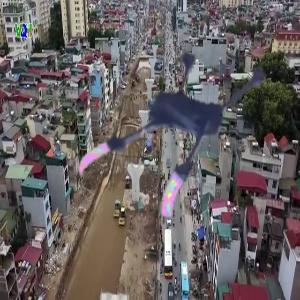drone: (74, 29, 288, 243)
